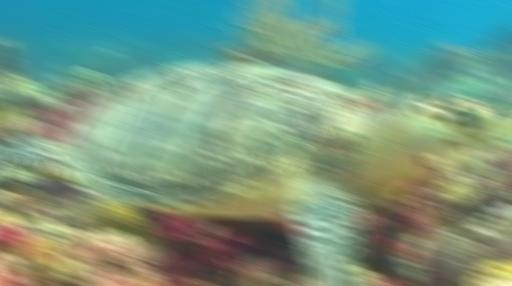Fish: (0, 63, 506, 285)
